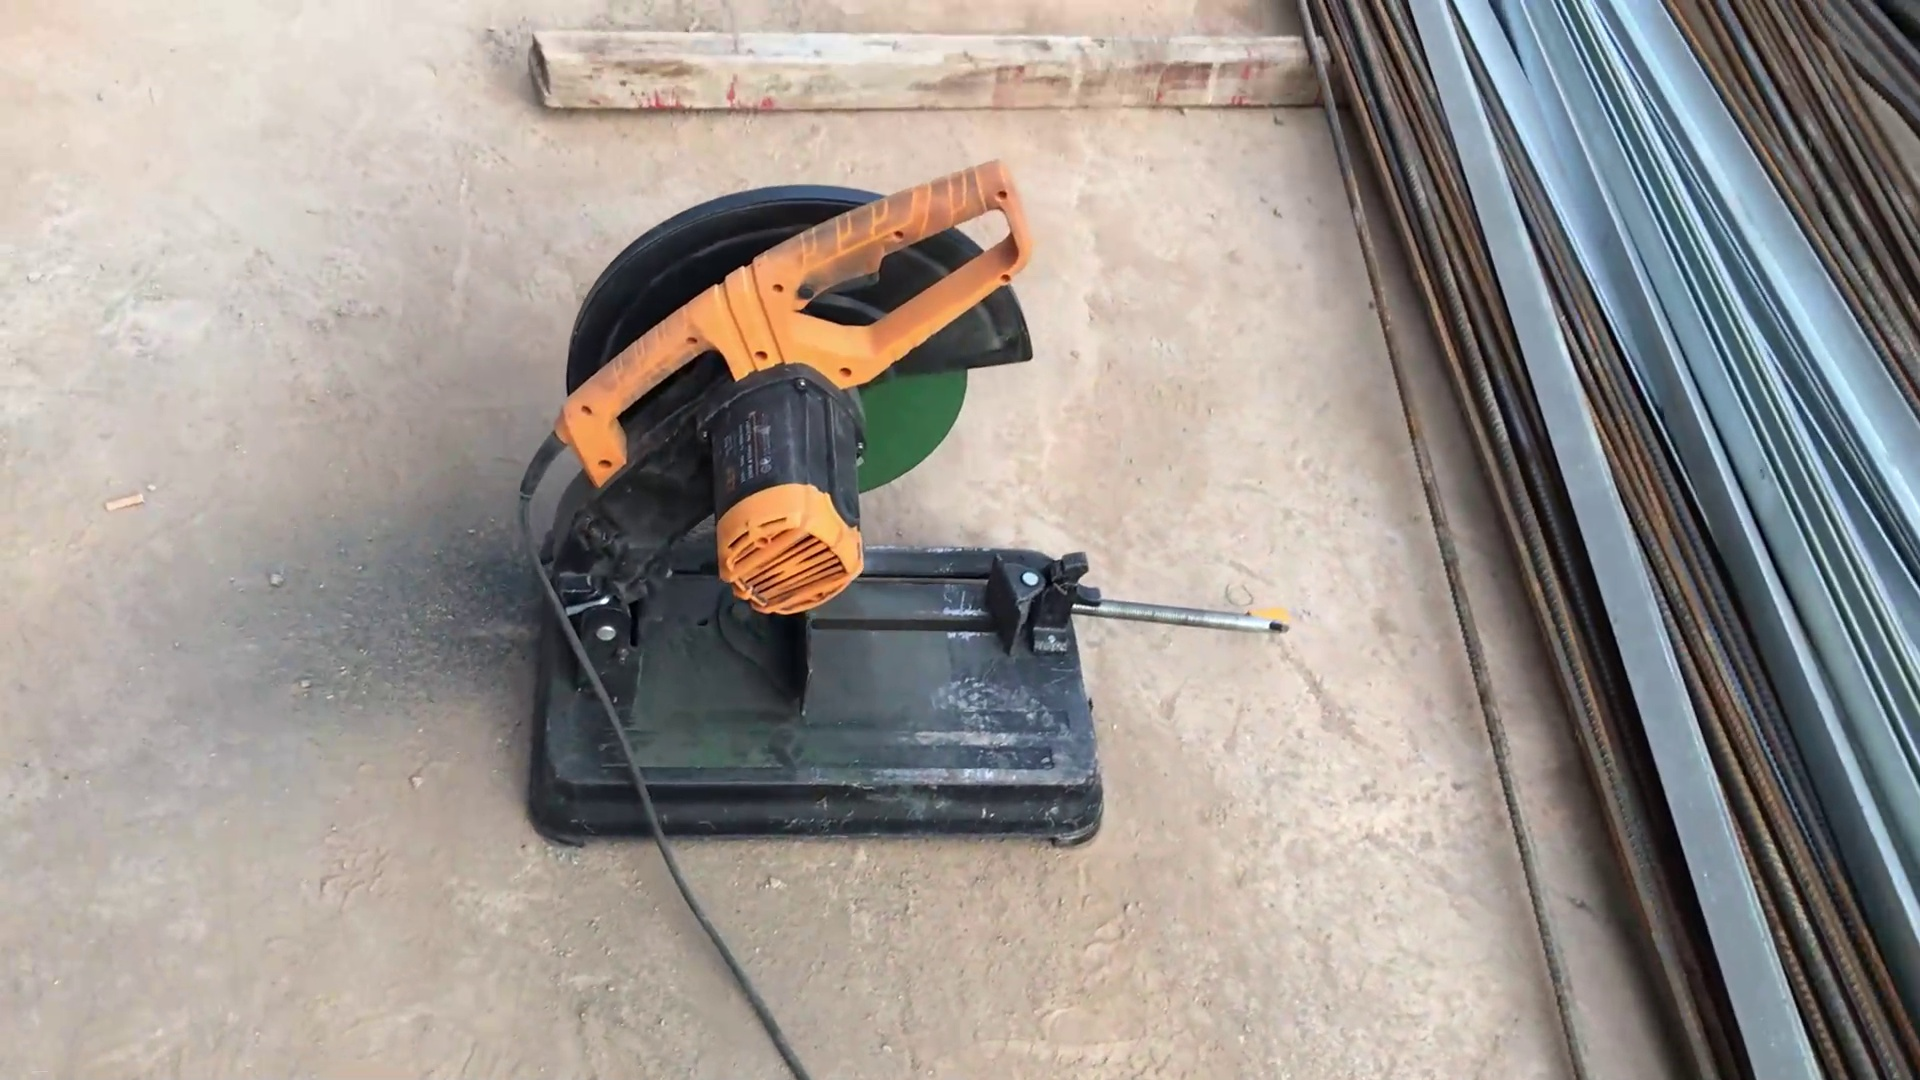cutter: (469, 140, 1327, 876)
